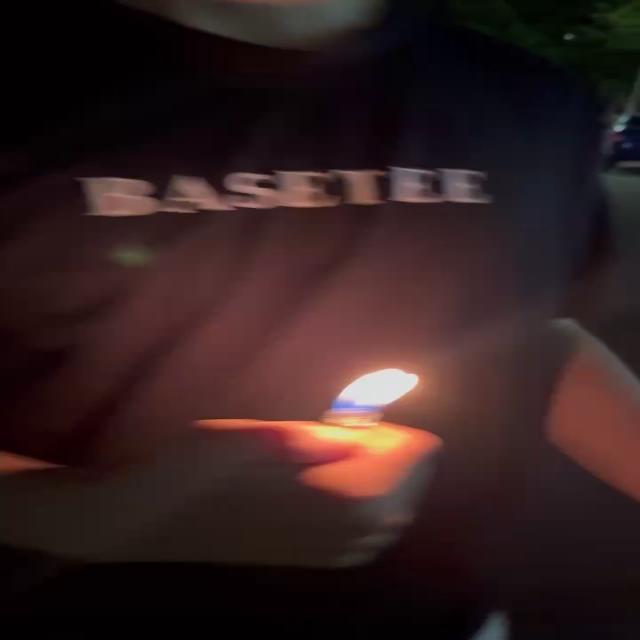Fire: (331, 366, 425, 414)
